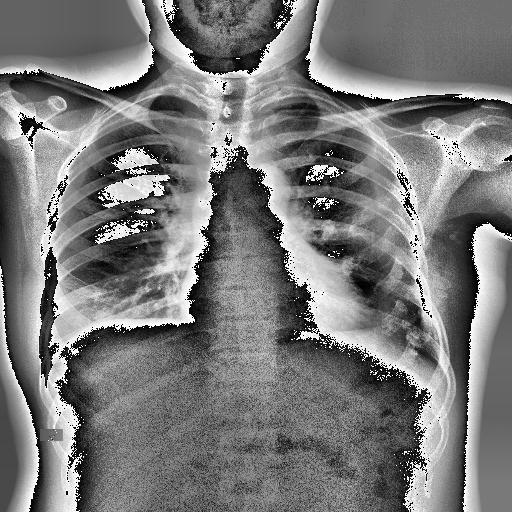0- Aortic enlargement: (237, 166, 291, 210)
11- Pleural thickening: (253, 96, 357, 119)
2- Calcification: (433, 223, 469, 290), (430, 270, 452, 304), (446, 220, 466, 245)
9- Other lesion: (378, 223, 450, 357), (433, 223, 469, 290), (402, 315, 432, 355), (394, 284, 428, 316), (320, 213, 358, 241), (391, 196, 413, 239), (393, 244, 424, 274), (396, 282, 424, 314), (390, 246, 422, 272), (408, 321, 431, 354), (430, 270, 452, 304), (376, 184, 406, 206), (378, 178, 400, 206), (446, 220, 466, 245), (320, 176, 340, 199), (340, 252, 358, 277)
